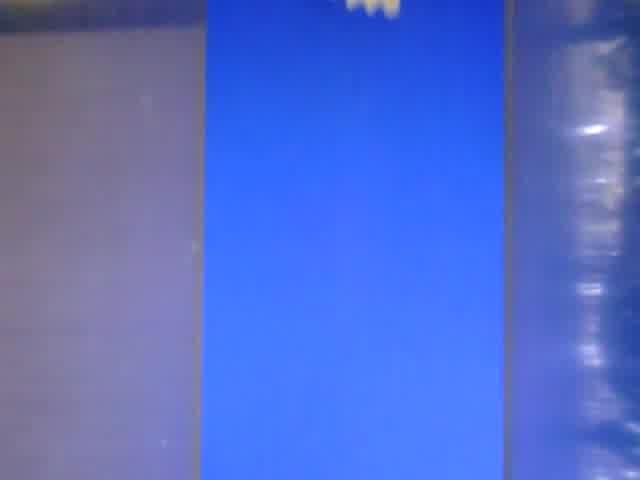farfalle: (342, 1, 403, 19)
